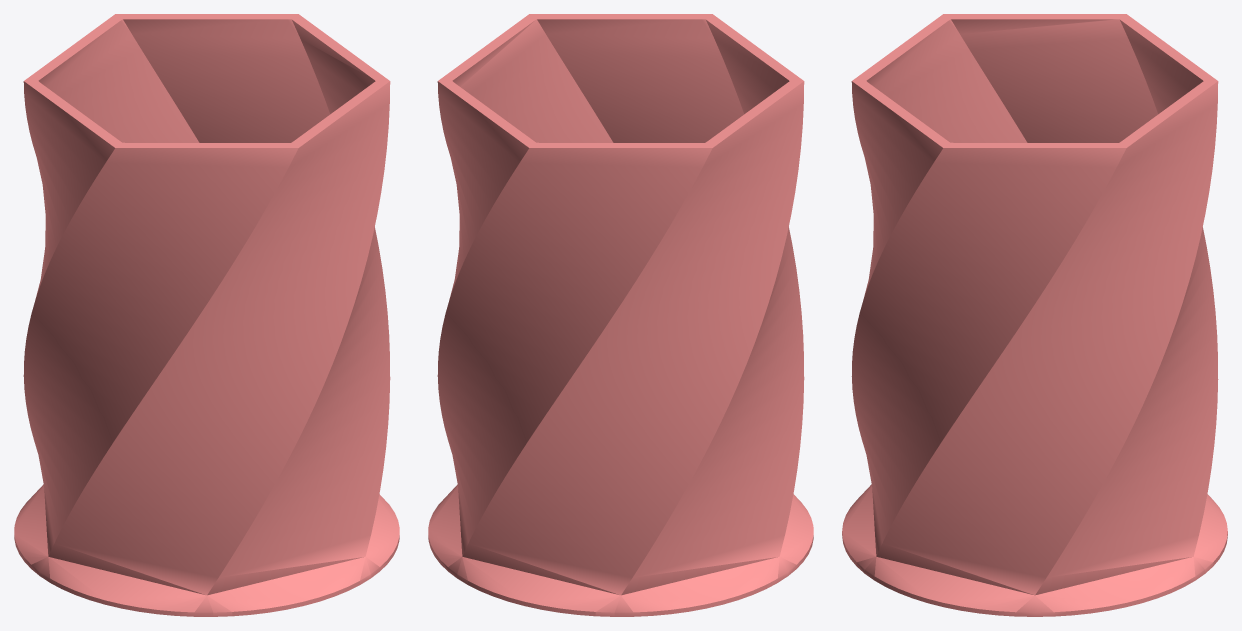
The model's file is gallery-8.glb.
3 views of the same model, side by side, from view 1: azimuth 30°, elevation 25°; view 2: azimuth 150°, elevation 25°; view 3: azimuth 270°, elevation 25° (orthographic).
Size of the model in its own units: 80 by 104 by 80.
